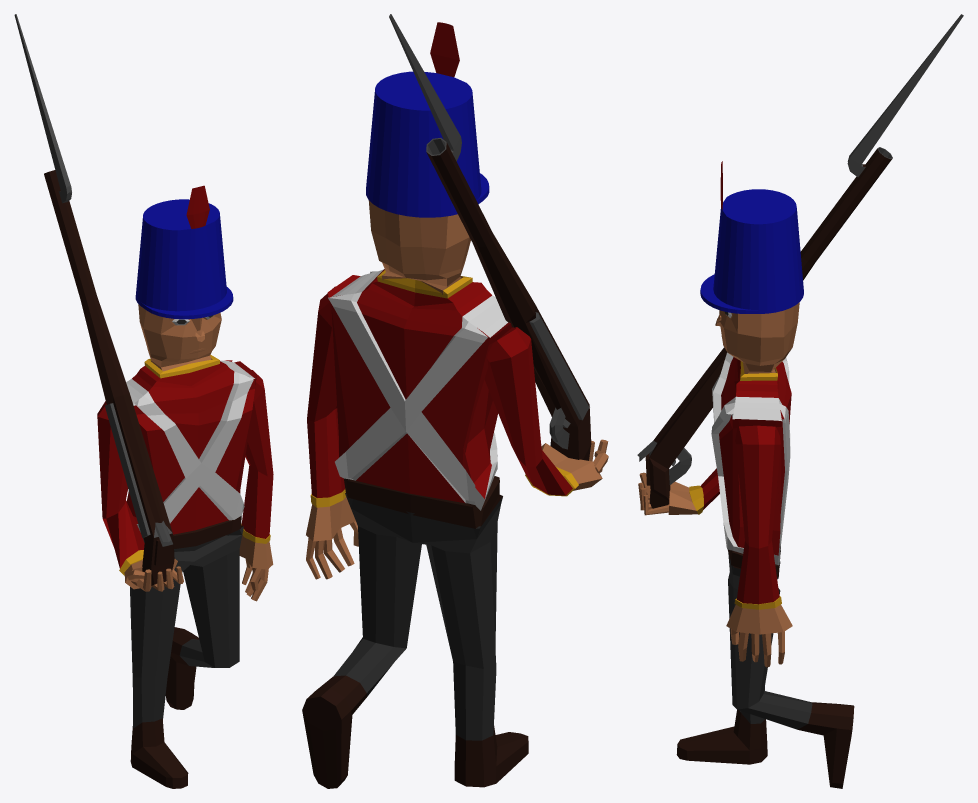
Rendered from frame3.obj.
The picture shows the model from 3 angles, left to right: view 1: azimuth 30°, elevation 25°; view 2: azimuth 150°, elevation 25°; view 3: azimuth 270°, elevation 25°; orthographic projection. The views are drawn at different scales.
Parts seen in each view (by area): view 1: {Man}_Circle, {Mesket}_Cube.001; view 2: {Man}_Circle, {Mesket}_Cube.001; view 3: {Man}_Circle, {Mesket}_Cube.001.
Boxes of the visible parts, x1,y1,x2,y2 form: {Man}_Circle: (97,185,273,788); {Mesket}_Cube.001: (14,14,174,585); {Man}_Circle: (302,22,608,788); {Mesket}_Cube.001: (389,14,591,460); {Man}_Circle: (638,161,854,788); {Mesket}_Cube.001: (637,14,963,508).
Size of the model in its own units: 5.63 by 19.45 by 7.93.
